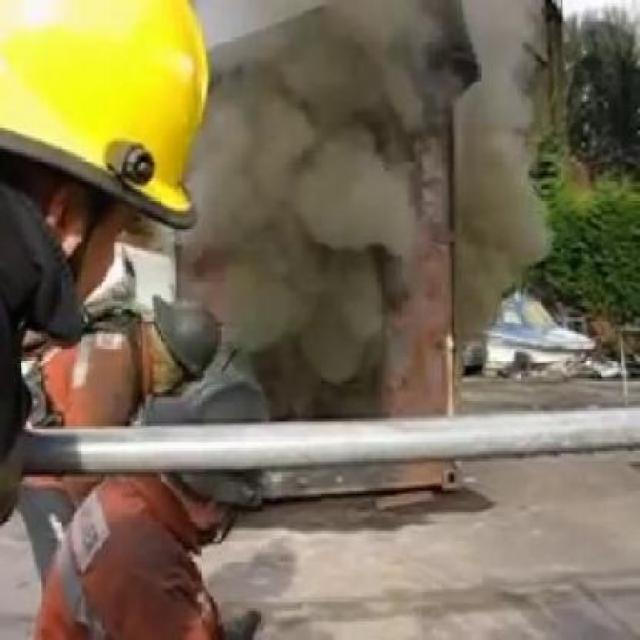smoke: (215, 45, 412, 362), (386, 131, 532, 344), (322, 2, 436, 122), (458, 5, 542, 128)
